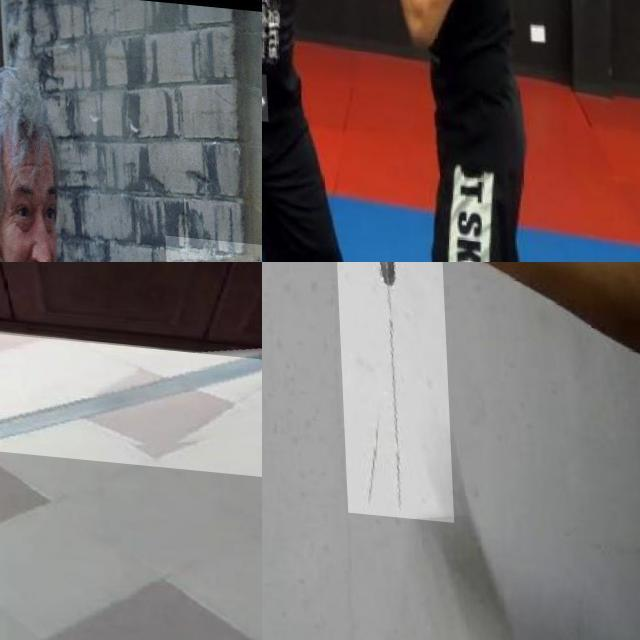-: (0, 322, 262, 470), (330, 262, 450, 514), (262, 63, 303, 117)
